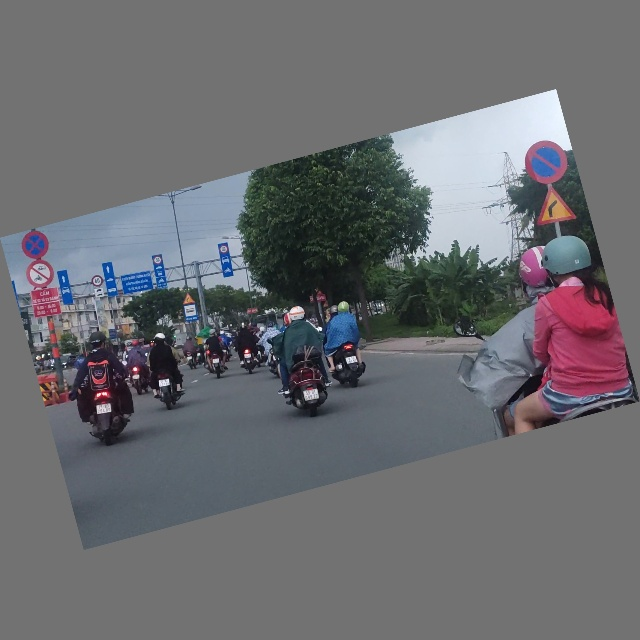I.434a: (182, 302, 200, 324)
P.111: (23, 257, 57, 291)
P.127*50: (218, 244, 230, 255), (152, 256, 163, 266)
P.127*60: (90, 274, 104, 288)
P.130: (18, 228, 52, 262)
P.131a: (519, 135, 573, 191)
S.505a*Xe tai va cong: (93, 287, 105, 300)
W.201b: (526, 181, 577, 230), (180, 292, 196, 307)
